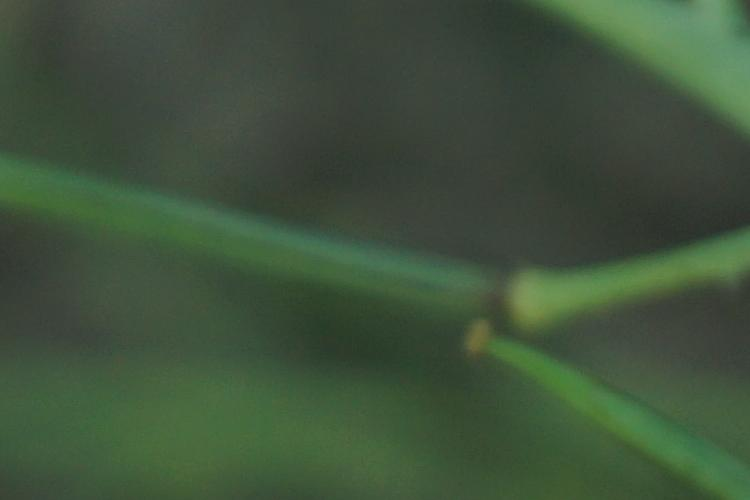pod: (428, 314, 750, 491)
